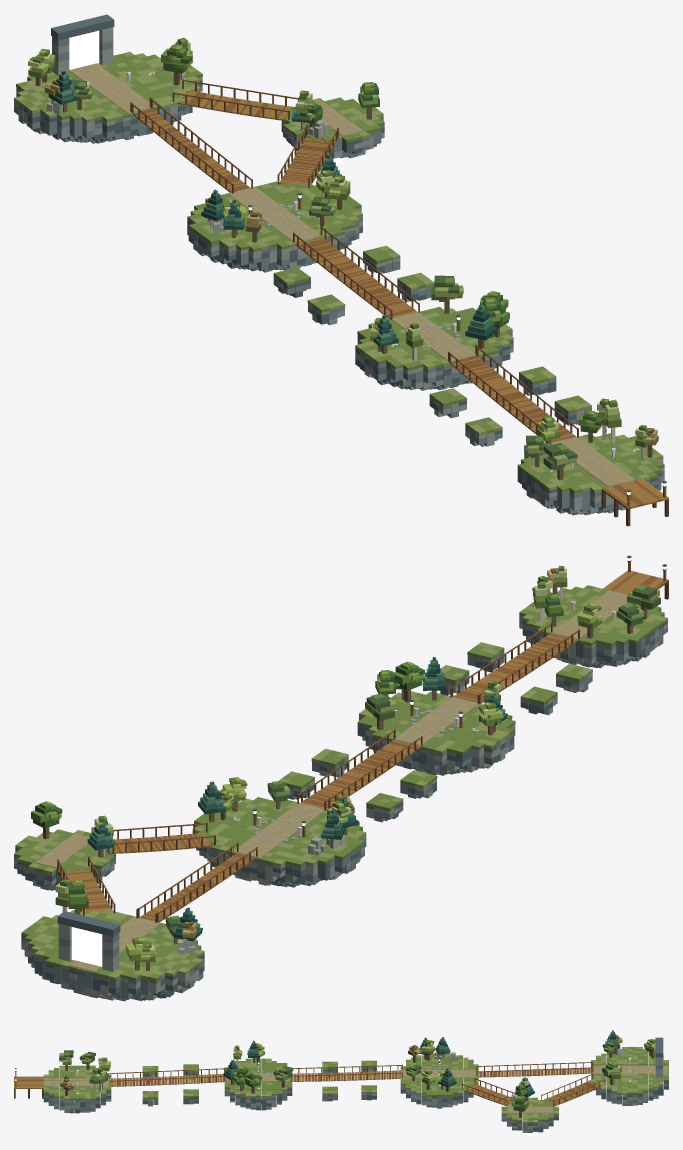
File: sky_route_purified.glb
3 renders of one model, top to bottom at view 1: azimuth 30°, elevation 25°; view 2: azimuth 150°, elevation 25°; view 3: azimuth 270°, elevation 25°, orthographic. The views are drawn at different scales.
Parts seen in each view (by area): view 1: sky_route_blocks, tree0_(0, 0).007, tree3_(0, 0).003, tree2_(0, 0).001, tree3_(0, 0).002; view 2: sky_route_blocks, tree0_(0, 0).003, tree3_(0, 0).003, tree0_(0, 0).006, tree3_(0, 0).002, tree2_(0, 0).004; view 3: sky_route_blocks, tree3_(0, 0).003, tree0_(0, 0).006, tree2_(0, 0).004, tree0_(0, 0).004, tree3_(0, 0).002, tree4_(0, 0).005, tree2_(0, 0).001, tree0_(0, 0).007, tree2_(0, 0).003.
Part boxes in pixels (box(x1,y1,x2,y2)): sky_route_blocks: box(14, 14, 668, 526); tree0_(0, 0).007: box(161, 44, 192, 85); tree3_(0, 0).003: box(431, 275, 463, 313); tree2_(0, 0).001: box(465, 304, 496, 348); tree3_(0, 0).002: box(543, 443, 577, 480); sky_route_blocks: box(14, 555, 668, 1001); tree0_(0, 0).003: box(393, 661, 424, 702); tree3_(0, 0).003: box(365, 693, 396, 730); tree0_(0, 0).006: box(31, 801, 62, 839); tree3_(0, 0).002: box(627, 584, 660, 619); tree2_(0, 0).004: box(198, 781, 226, 822); sky_route_blocks: box(14, 1037, 668, 1135); tree3_(0, 0).003: box(273, 1066, 293, 1087); tree0_(0, 0).006: box(512, 1096, 528, 1117); tree2_(0, 0).004: box(439, 1068, 456, 1091); tree0_(0, 0).004: box(245, 1072, 262, 1093); tree3_(0, 0).002: box(59, 1050, 73, 1071); tree4_(0, 0).005: box(421, 1069, 435, 1089); tree2_(0, 0).001: box(223, 1060, 237, 1084); tree0_(0, 0).007: box(602, 1061, 621, 1085); tree2_(0, 0).003: box(435, 1037, 450, 1058).
Size of the model in its own units: 38.39 by 16.2 by 145.
